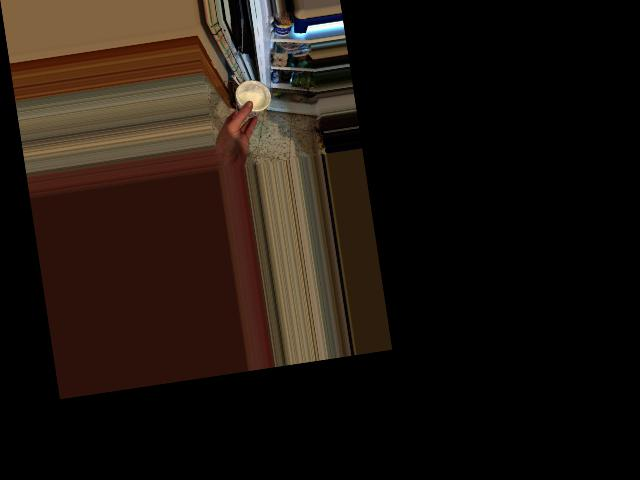cotage: (232, 75, 270, 121)
